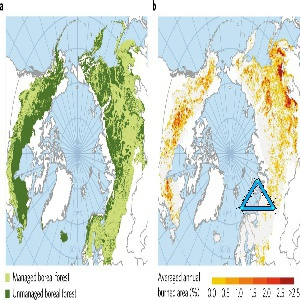triangle: (236, 176, 278, 214)
